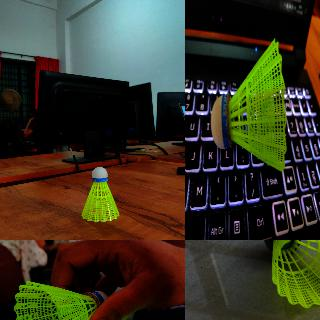shuttlecock: (212, 36, 286, 174), (263, 240, 319, 308), (13, 281, 107, 319), (81, 166, 119, 222)
